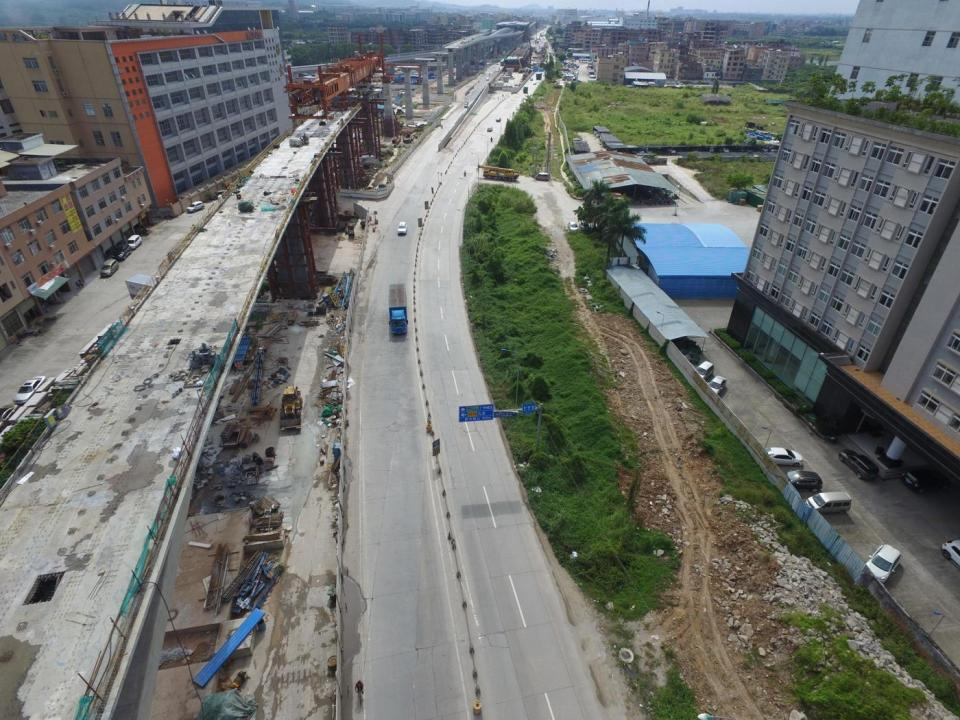car: (860, 544, 902, 586), (839, 450, 880, 482), (902, 468, 951, 492), (14, 376, 46, 406), (759, 445, 802, 467), (781, 470, 823, 492), (0, 404, 19, 432), (706, 376, 728, 397), (114, 243, 131, 260), (102, 259, 118, 276), (186, 201, 204, 212), (128, 234, 140, 250), (398, 222, 407, 237), (579, 221, 590, 232), (568, 222, 579, 232), (487, 126, 492, 132), (496, 118, 501, 121), (485, 78, 489, 80), (530, 78, 533, 80), (533, 82, 536, 84)
truck: (388, 284, 409, 336), (500, 57, 507, 66), (536, 72, 542, 80), (523, 86, 528, 94), (464, 102, 468, 108)
van: (804, 492, 851, 515), (694, 361, 714, 384), (212, 190, 228, 200), (535, 173, 548, 182)
